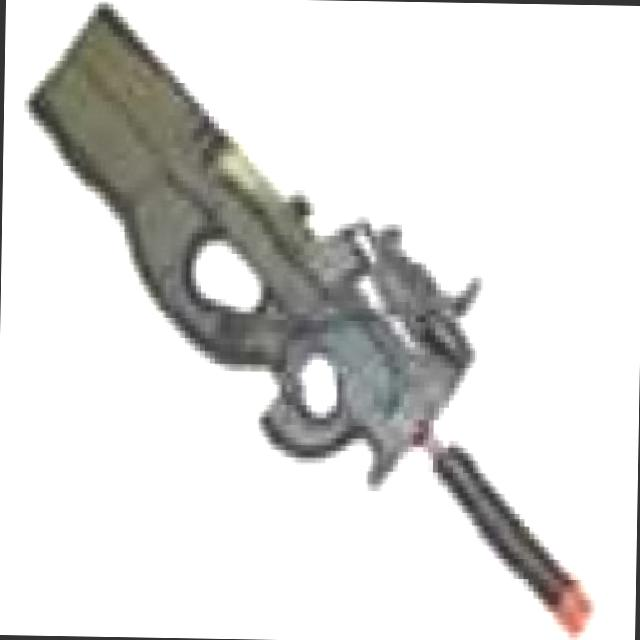long weapon: (0, 3, 621, 634)
